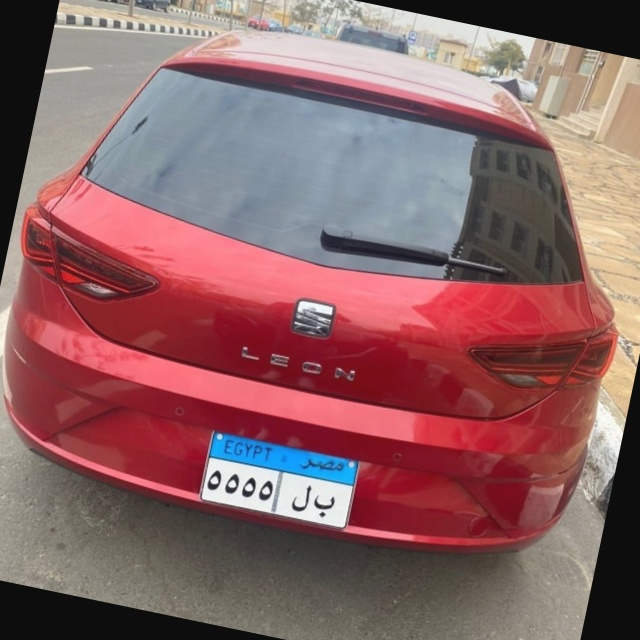License Plate: (189, 425, 368, 539)
